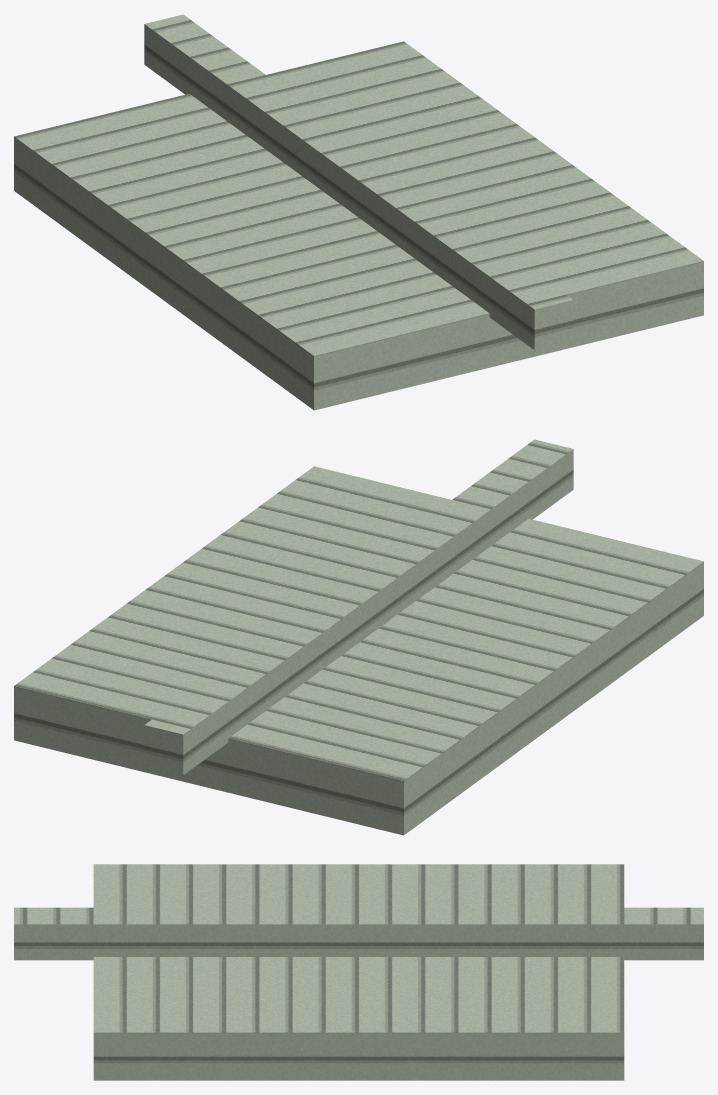
File: plow.glb
3 views of the same model, one above another, from view 1: azimuth 30°, elevation 25°; view 2: azimuth 150°, elevation 25°; view 3: azimuth 270°, elevation 25° (orthographic). The views are drawn at different scales.
Parts seen in each view (by area): view 1: plow-col; view 2: plow-col; view 3: plow-col.
Boxes of the visible parts, <box> form: plow-col: <box>14,14,703,410</box>; plow-col: <box>14,439,703,835</box>; plow-col: <box>14,864,703,1080</box>.
Bounding box in the file's own units: 1.5 × 0.335 × 2.6.
1 material, 1 textured.
